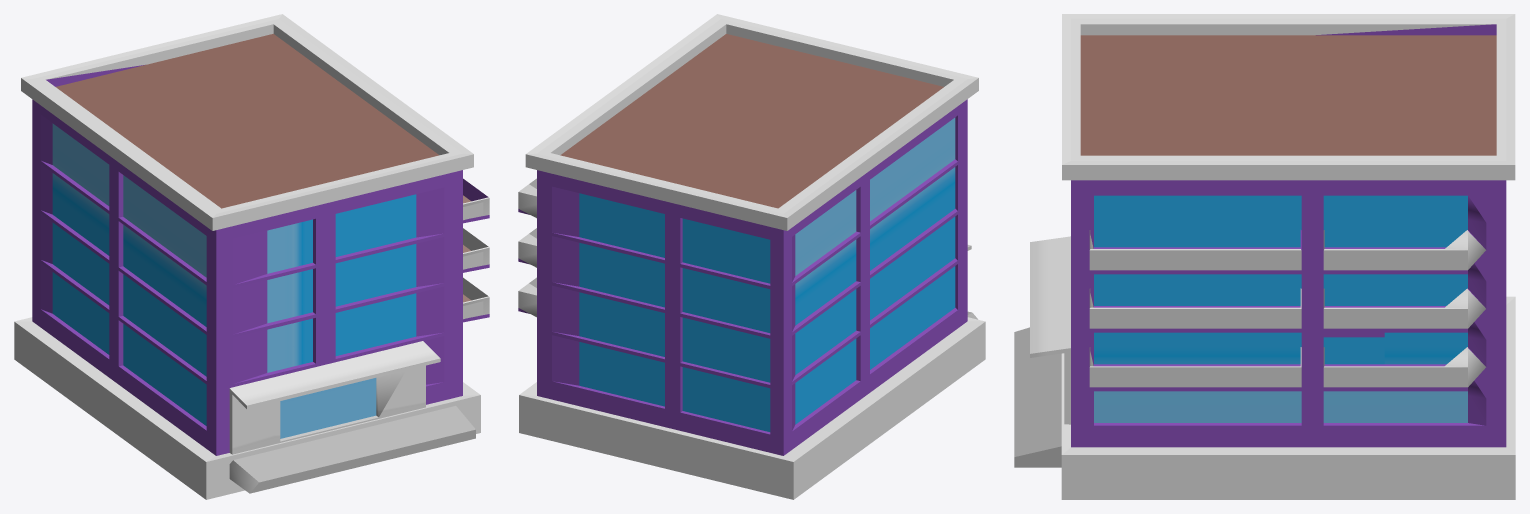
File: PurpleBuilding6x8x7.fbx
3 renders of one model, left to right at view 1: azimuth 30°, elevation 25°; view 2: azimuth 150°, elevation 25°; view 3: azimuth 270°, elevation 25°, orthographic. The views are drawn at different scales.
Parts seen in each view (by area): view 1: House; view 2: House; view 3: House.
Boxes of the visible parts, x1,y1,x2,y2 form: House: (14, 14, 489, 499); House: (518, 14, 985, 499); House: (1014, 14, 1515, 499).
Size of the model in its own units: 7.82 by 7.09 by 9.73.
1 material, 1 textured.
